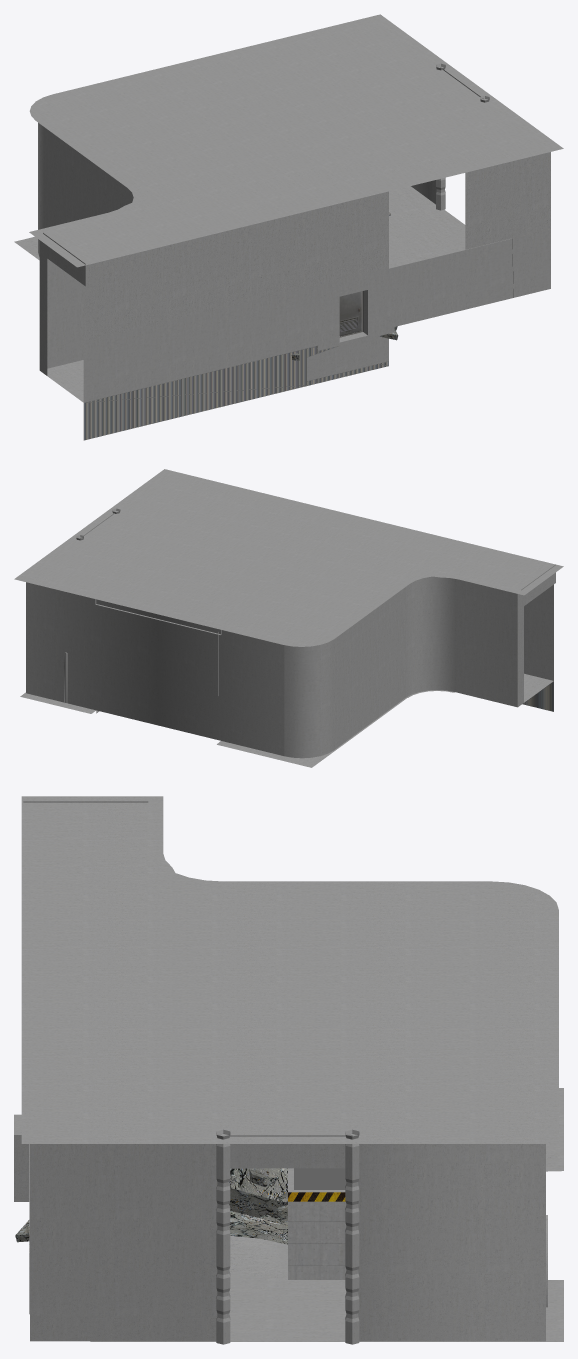
File: Env_lvl_01_room_1.FBX
3 renders of one model, top to bottom at view 1: azimuth 30°, elevation 25°; view 2: azimuth 150°, elevation 25°; view 3: azimuth 270°, elevation 25°, orthographic. The views are drawn at different scales.
Parts seen in each view (by area): view 1: Env_lvl_01_room_1_mesh; view 2: Env_lvl_01_room_1_mesh; view 3: Env_lvl_01_room_1_mesh.
Boxes of the visible parts, bbox=[...] form: Env_lvl_01_room_1_mesh: bbox=[14, 14, 563, 440]; Env_lvl_01_room_1_mesh: bbox=[14, 469, 563, 767]; Env_lvl_01_room_1_mesh: bbox=[14, 796, 563, 1344].
Size of what is drawn, in the model's own units: 2552 by 902 by 1706.
10 materials, 9 textured.
